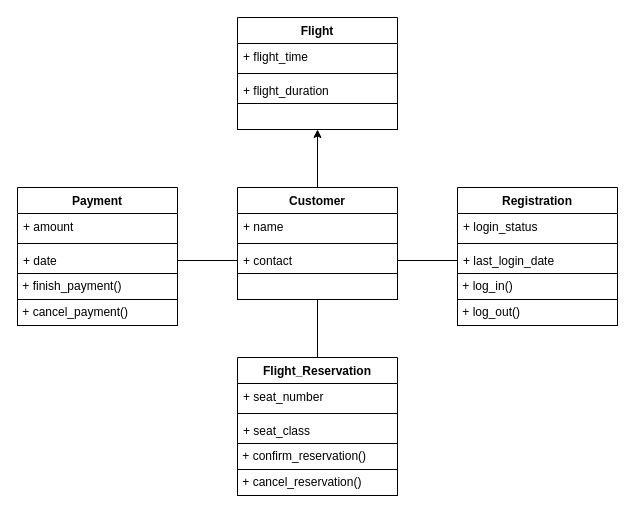
Some shapes in this 635 by 513 pixel diagram are drawn without their labels. The centre of each missing label's shape, as x and y in pixels:
"+ address" belongs at point (317, 286).
"+ airport_name" belongs at point (317, 116).
